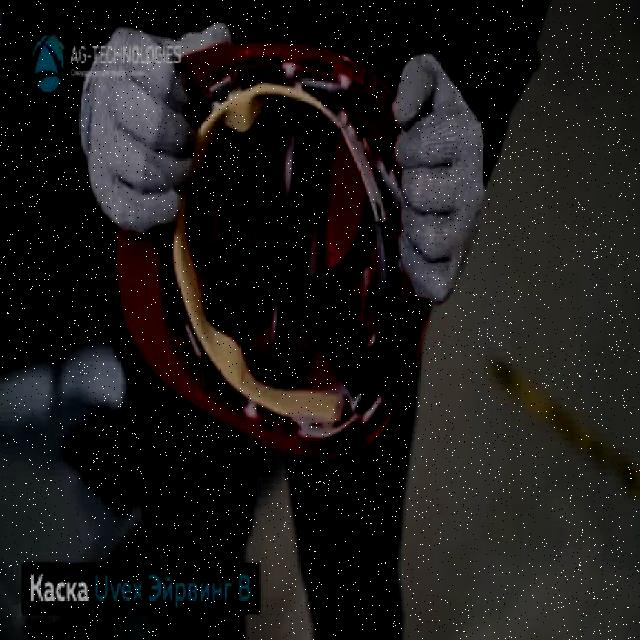Gloves: (76, 24, 233, 242), (384, 50, 488, 312)
Helmet: (114, 37, 433, 465)
